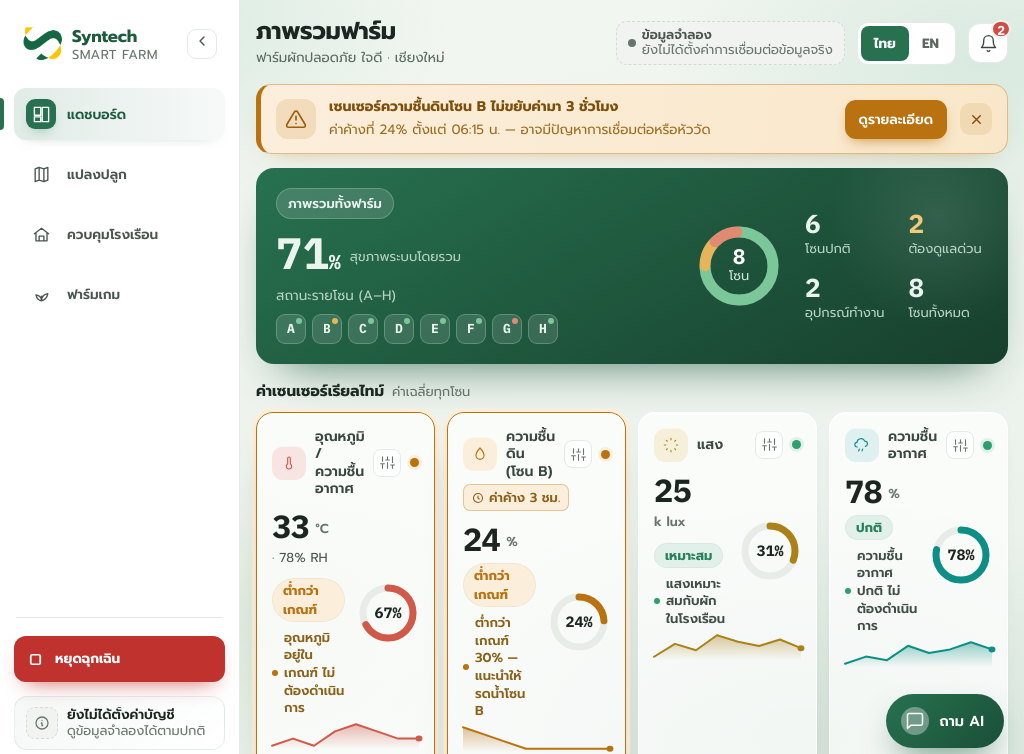
Test: สถานะเชื่อมกันข้ามหน้า › ตั้งเกณฑ์ที่แดชบอร์ดแล้วค่าอยู่รอดตอนกลับมาใหม่
Expected: the text "ความชื้นดิน (โซน B)" is shown, [506, 428, 555, 480]
Expected: the text "ต่ำกว่าเกณฑ์" below "ค่าค้าง 3 ชม." is shown, [474, 566, 510, 604]
Click the button named "ตั้งเกณฑ์แจ้งเตือน — ความชื้นดิน (โซน B)".
click(578, 454)  # box [564, 440, 592, 468]
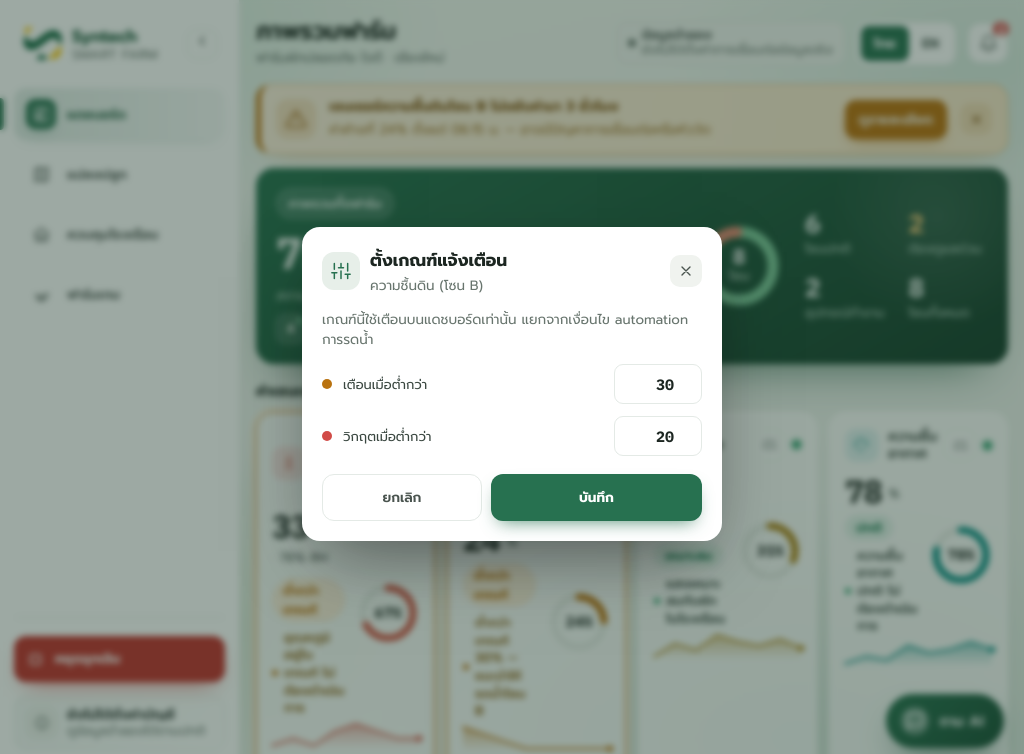
Replace the text in the number field labelled "เตือนเมื่อต่ำกว่า" with "10" at (658, 384), box [614, 364, 702, 404]
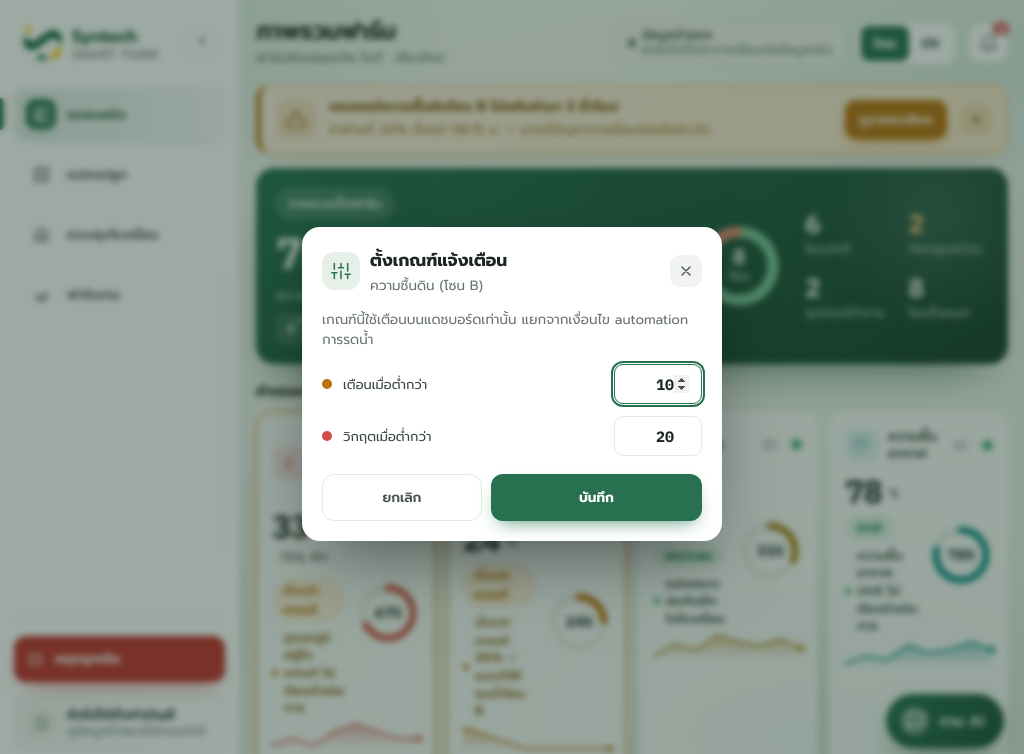
Click the button "บันทึก".
click(596, 498)  # box [491, 474, 702, 521]
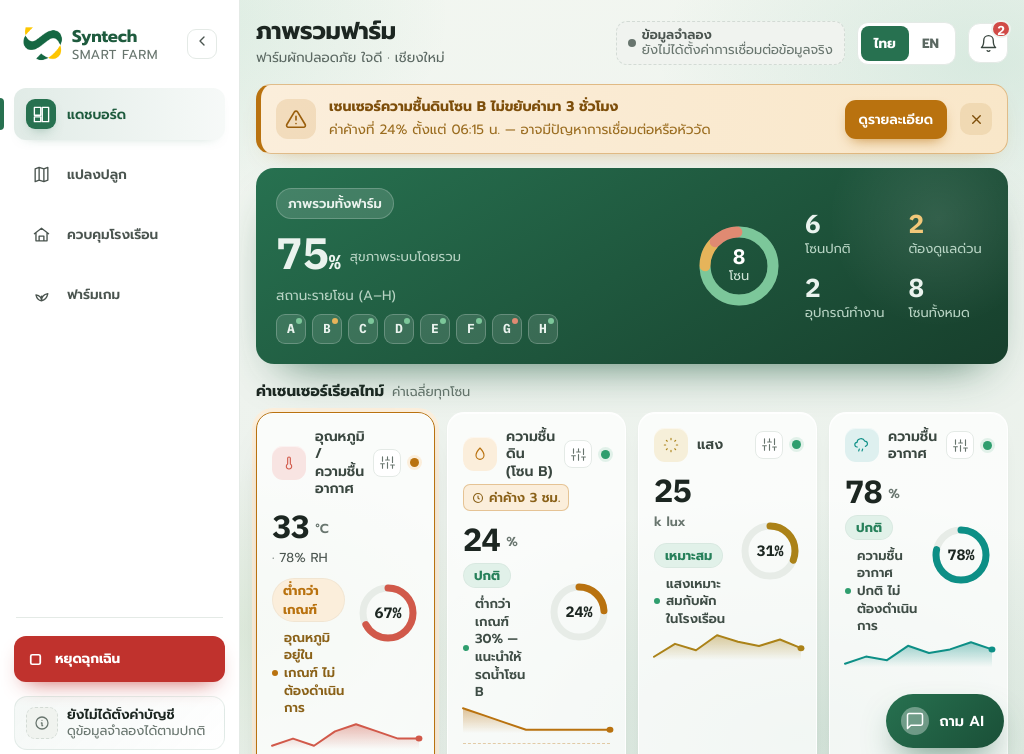
Click the button "ควบคุมโรงเรือน".
click(120, 234)  # box [14, 208, 225, 260]
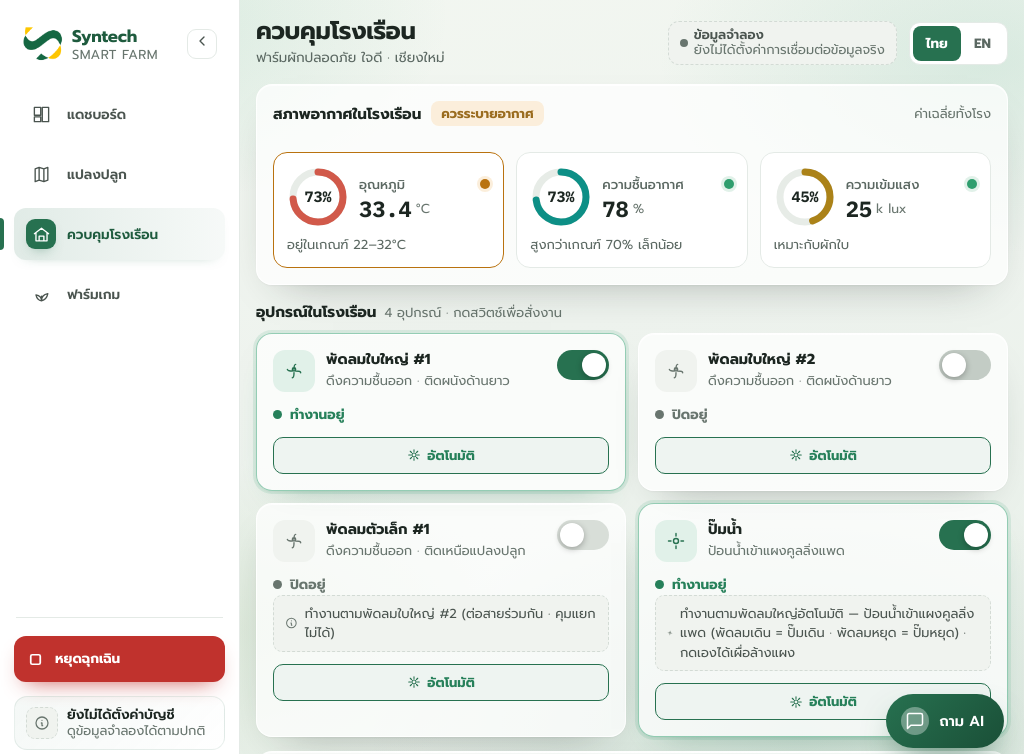
Expected: the heading "ควบคุมโรงเรือน" is shown, [256, 13, 416, 49]
Click the button "แดชบอร์ด".
click(120, 114)  # box [14, 88, 225, 140]
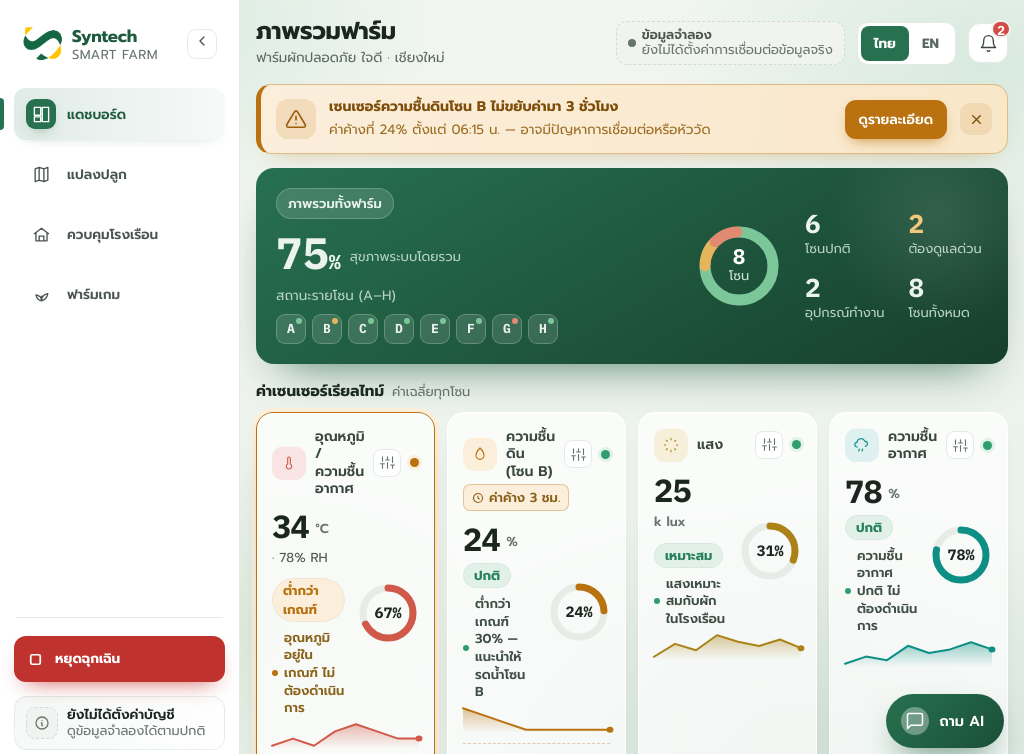
Expected: the text "ความชื้นดิน (โซน B)" is shown, [506, 428, 555, 480]
